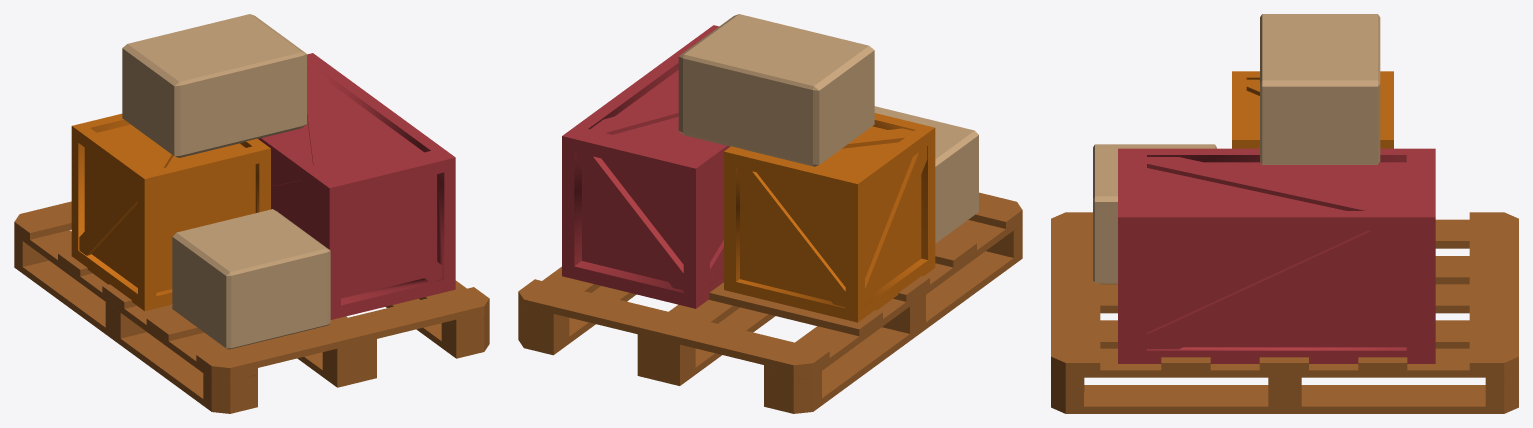
File: Prop_Pallet_Small_WB_A.fbx
The picture shows the model from 3 angles, left to right: view 1: azimuth 30°, elevation 25°; view 2: azimuth 150°, elevation 25°; view 3: azimuth 270°, elevation 25°; orthographic projection. The views are drawn at different scales.
Visible parts, largest first — view 1: Prop_Pallet_Small_WB_A; view 2: Prop_Pallet_Small_WB_A; view 3: Prop_Pallet_Small_WB_A.
Boxes of the visible parts, x1,y1,x2,y2 form: Prop_Pallet_Small_WB_A: (14, 14, 489, 413); Prop_Pallet_Small_WB_A: (518, 14, 1022, 413); Prop_Pallet_Small_WB_A: (1051, 14, 1518, 413).
Size of the model in its own units: 111 by 84.28 by 72.95.
